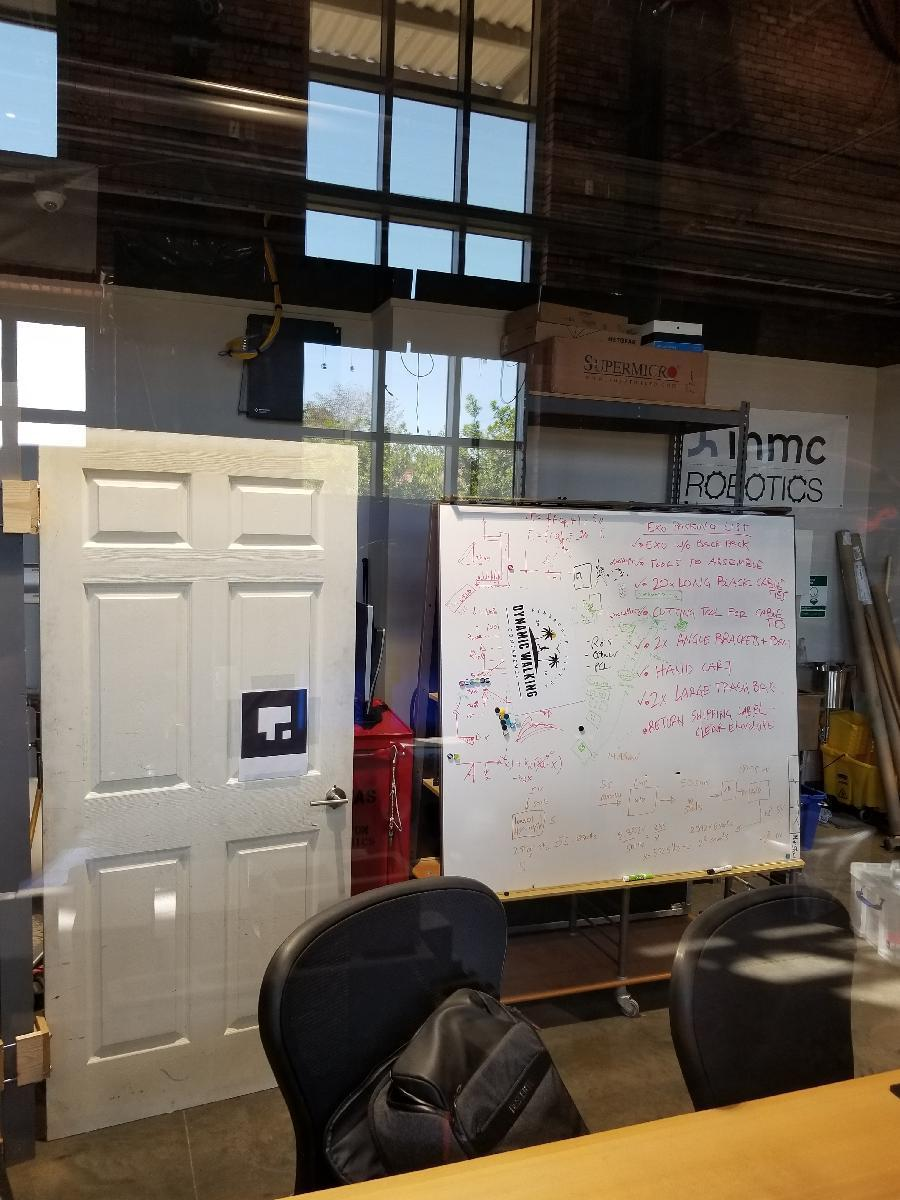door: (43, 423, 358, 1111)
handle: (306, 780, 350, 816)
